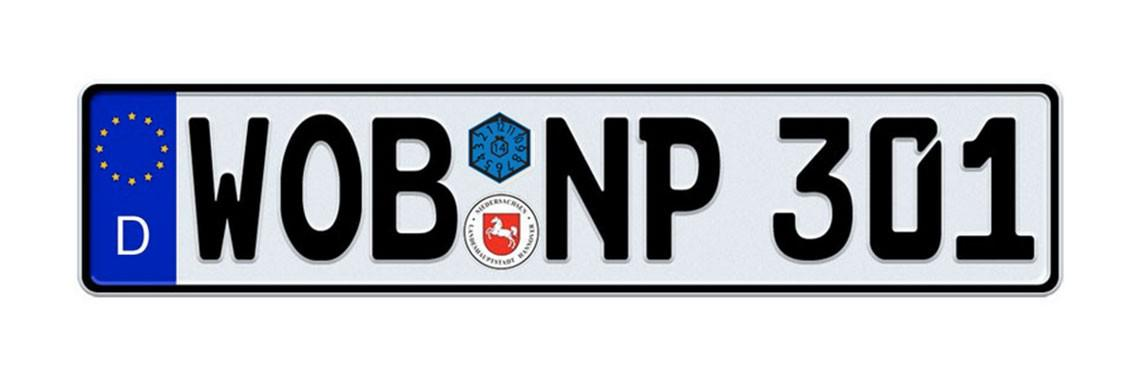0: (866, 114, 947, 264)
1: (954, 115, 1039, 262)
3: (769, 114, 856, 264)
B: (369, 113, 460, 265)
N: (541, 114, 631, 262)
O: (278, 112, 365, 265)
P: (634, 115, 726, 265)
W: (184, 112, 272, 267)
